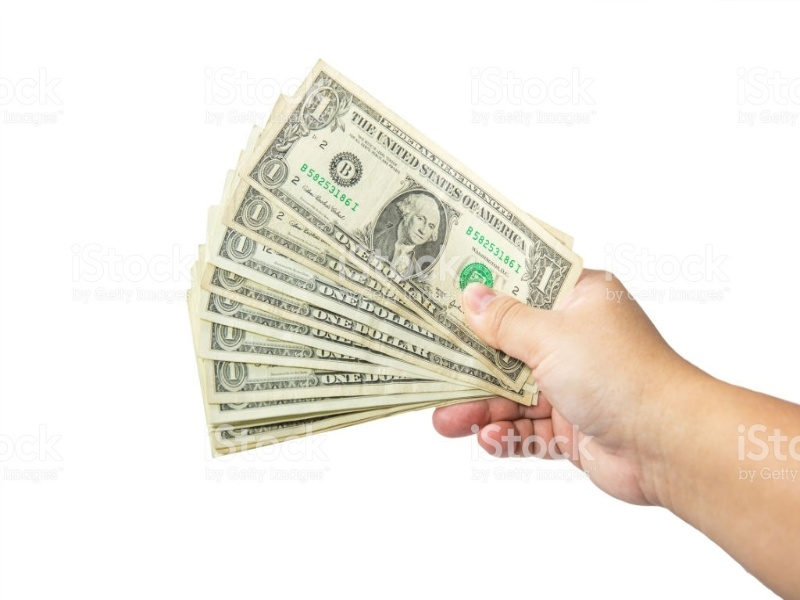cash: (186, 58, 583, 459)
